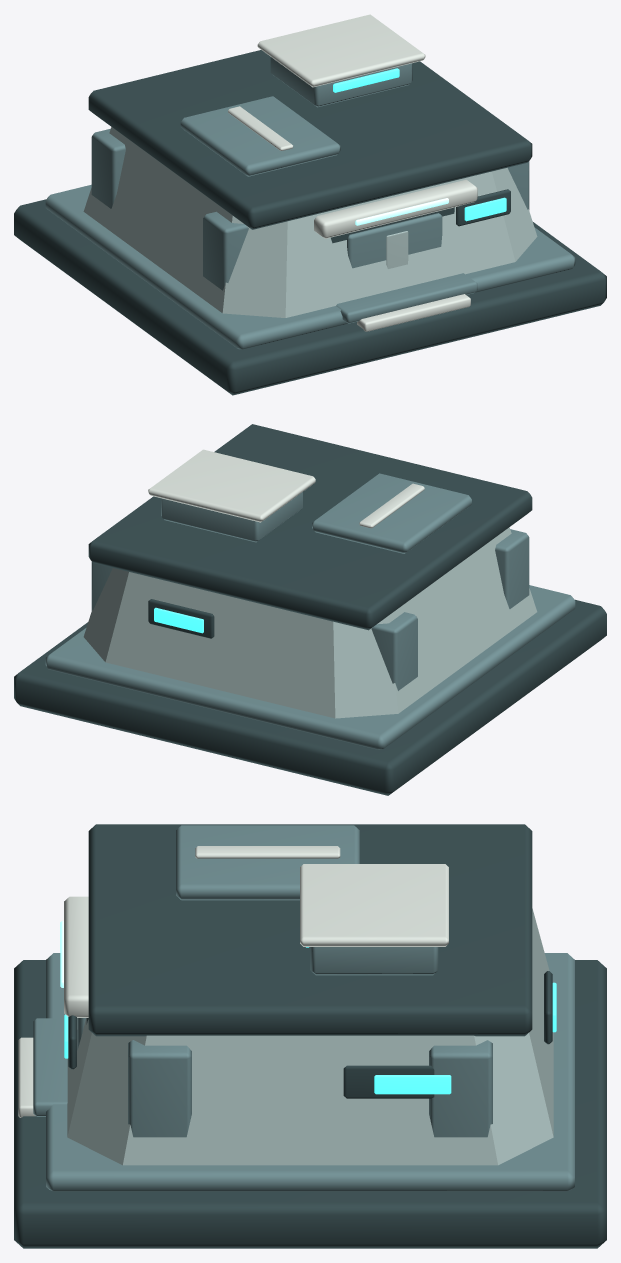
Rendered from bunker.glb.
The picture shows the model from 3 angles, top to bottom: view 1: azimuth 30°, elevation 25°; view 2: azimuth 150°, elevation 25°; view 3: azimuth 270°, elevation 25°; orthographic projection. The views are drawn at different scales.
Parts seen in each view (by area): view 1: Bunker foundation, Bunker plinth, Armored bunker casemate, Aegis hatch locking bar, Aegis observation optic, Bunker firing slit 1, Bunker entry light; view 2: Bunker foundation, Armored bunker casemate, Bunker plinth, Aegis hatch locking bar, Bunker firing slit 3; view 3: Bunker foundation, Bunker plinth, Armored bunker casemate, Aegis hatch locking bar, Bunker firing slit 2.
Boxes of the visible parts, x1,y1,x2,y2 form: Bunker foundation: (14, 50, 606, 395); Bunker plinth: (45, 57, 575, 349); Armored bunker casemate: (83, 127, 537, 317); Aegis hatch locking bar: (228, 14, 477, 331); Aegis observation optic: (333, 68, 399, 92); Bunker firing slit 1: (464, 197, 506, 221); Bunker entry light: (355, 198, 448, 225); Bunker foundation: (14, 424, 606, 795); Armored bunker casemate: (83, 527, 537, 718); Bunker plinth: (45, 473, 575, 749); Aegis hatch locking bar: (148, 449, 424, 528); Bunker firing slit 3: (154, 607, 203, 633); Bunker foundation: (14, 824, 606, 1248); Bunker plinth: (33, 825, 574, 1191); Armored bunker casemate: (67, 908, 553, 1165); Aegis hatch locking bar: (18, 846, 448, 1117); Bunker firing slit 2: (374, 1075, 451, 1094).
Bounding box in the file's own units: 2.78 × 1.36 × 2.78.
